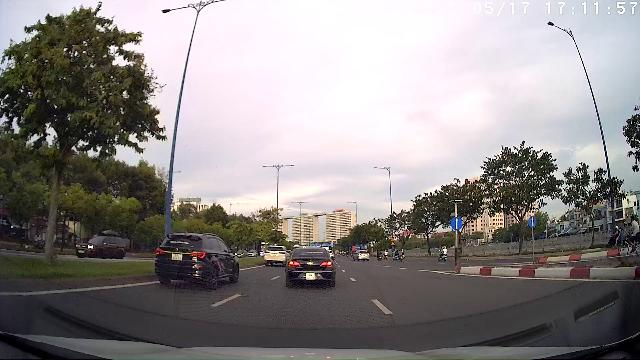301a-cac-xe-chi-duoc-di-thang: (450, 217, 463, 231), (528, 215, 537, 228)
